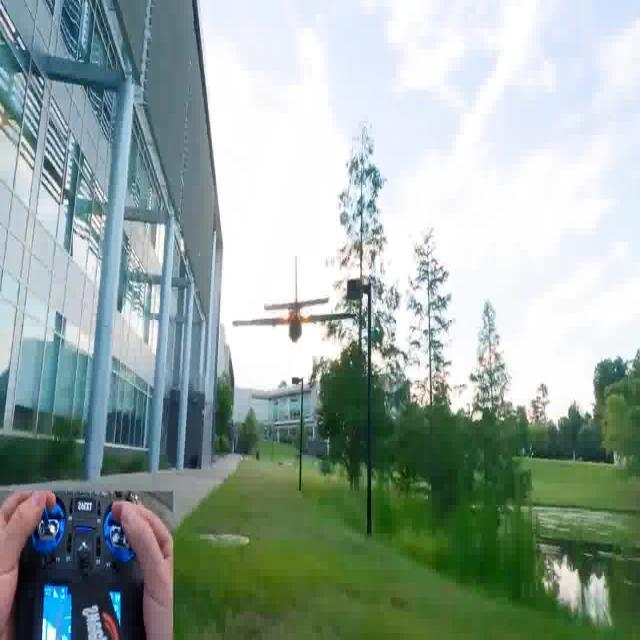iha: (228, 286, 357, 326)
